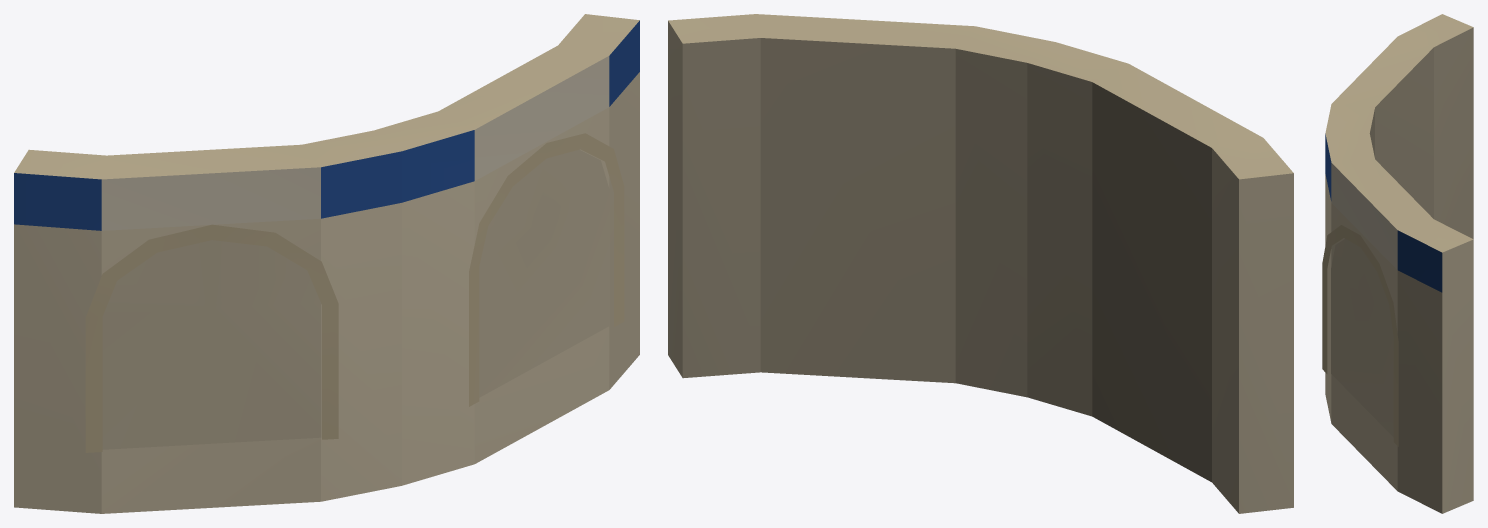
File: dome.drum_solid.blue.glb
3 views of the same model, side by side, from view 1: azimuth 30°, elevation 25°; view 2: azimuth 150°, elevation 25°; view 3: azimuth 270°, elevation 25° (orthographic). The views are drawn at different scales.
Parts seen in each view (by area): view 1: dome_drum_solid_blue; view 2: dome_drum_solid_blue; view 3: dome_drum_solid_blue.
Boxes of the visible parts, <box> form: dome_drum_solid_blue: <box>14,14,639,513</box>; dome_drum_solid_blue: <box>668,14,1293,513</box>; dome_drum_solid_blue: <box>1322,14,1473,513</box>.
Size of what is drawn, in the model's own units: 5.09 by 2.6 by 1.37.
